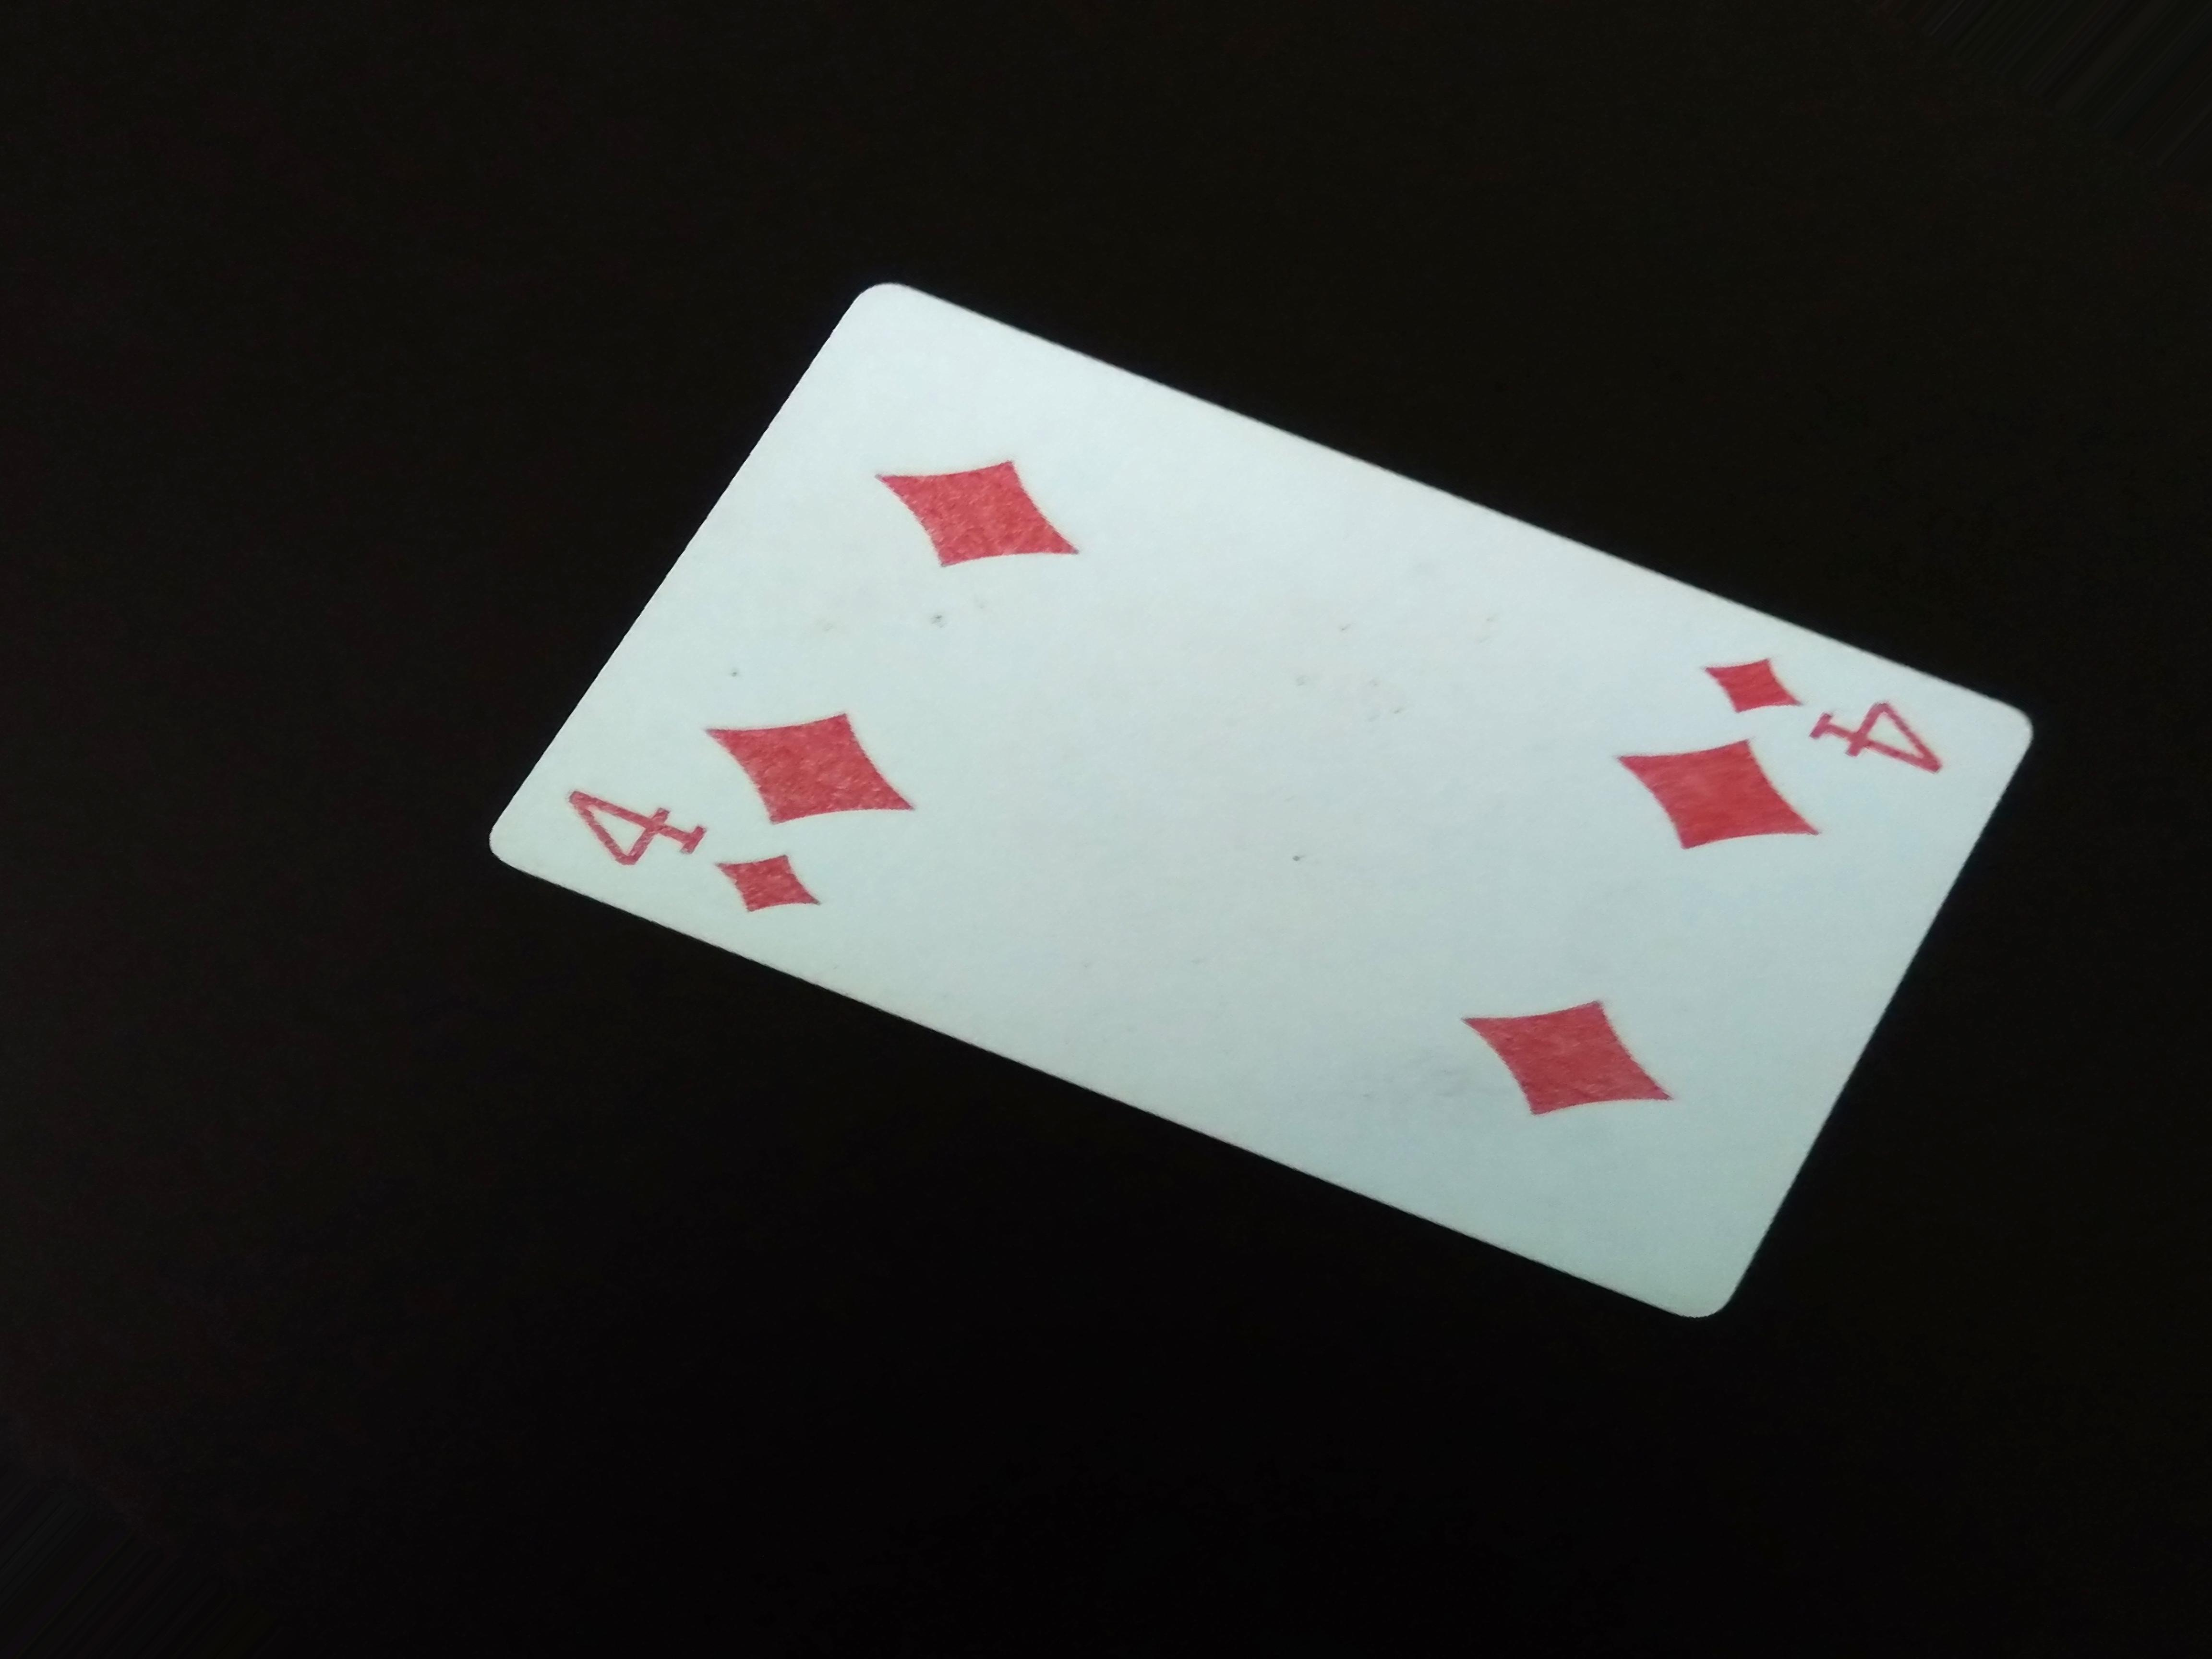4D: (1686, 640, 1946, 782)
